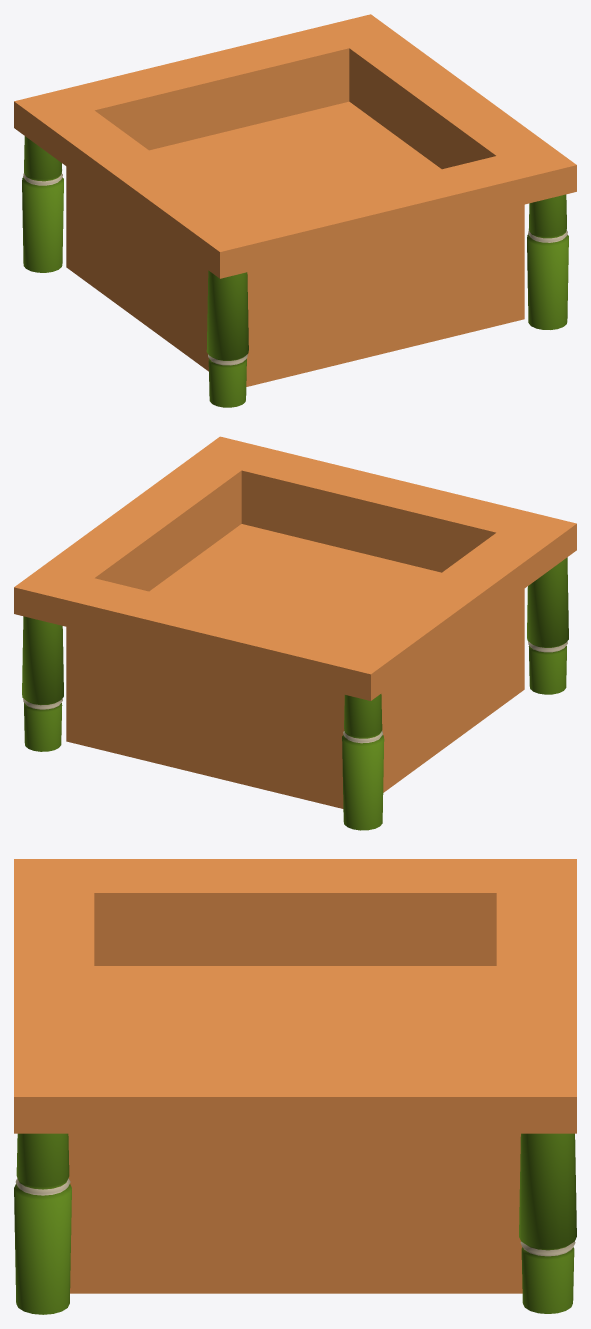
The model's file is Panda_Feed.fbx.
3 views of the same model, one above another, from view 1: azimuth 30°, elevation 25°; view 2: azimuth 150°, elevation 25°; view 3: azimuth 270°, elevation 25° (orthographic). The views are drawn at different scales.
Parts seen in each view (by area): view 1: Panda_Feed_Place; view 2: Panda_Feed_Place; view 3: Panda_Feed_Place.
Boxes of the visible parts, box(x1,y1,x2,y2) form: Panda_Feed_Place: box(14, 14, 576, 407); Panda_Feed_Place: box(14, 436, 576, 830); Panda_Feed_Place: box(14, 859, 576, 1314).
Bounding box in the file's own units: 168 × 72.02 × 168.
